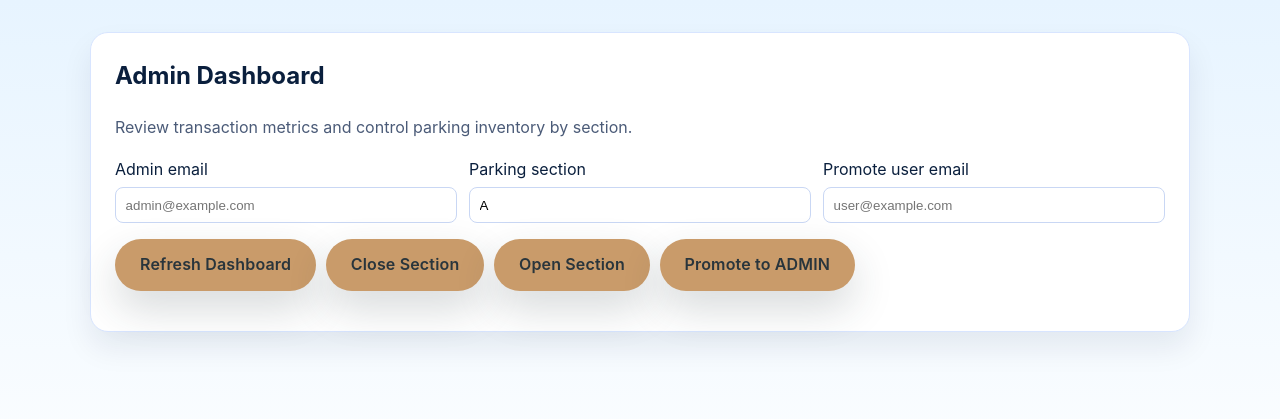
it: AdminDashboardPage › shows API error message when action fails
Type "admin@club.com" into the field with placeholder "admin@example.com" at {"x": 286, "y": 205}, box [115,187,457,224]
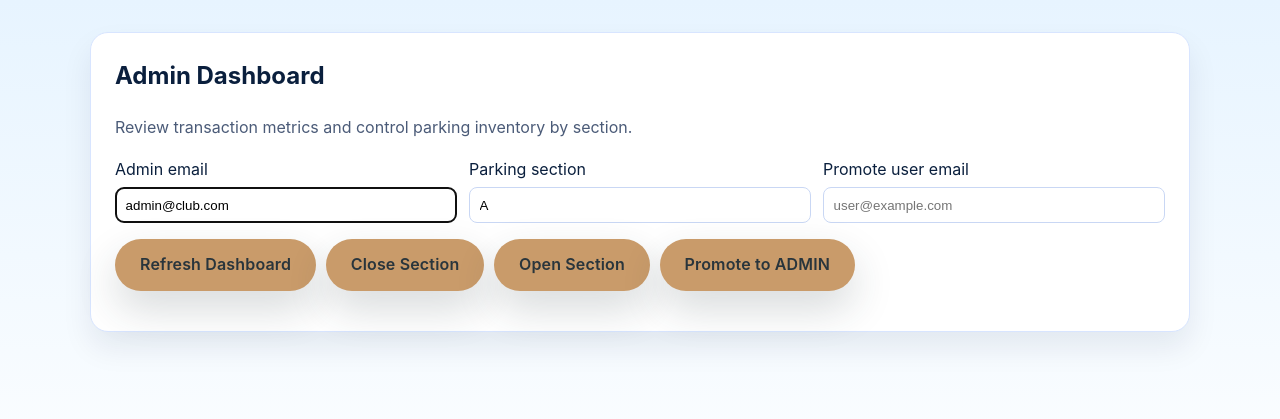
Click the button "Refresh Dashboard" at {"x": 216, "y": 265}, box [115,240,316,291]
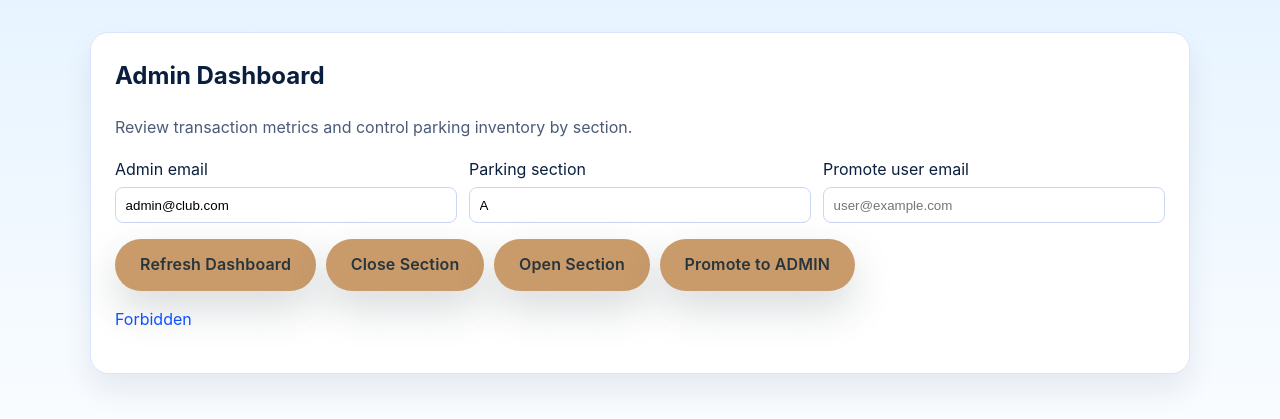
Now the text "Forbidden" is shown, box [115,309,192,329]
